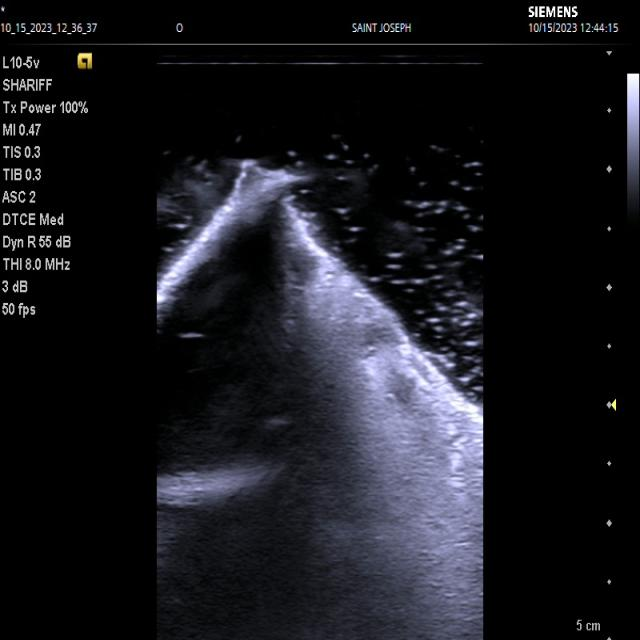tissue: (157, 187, 484, 640)
